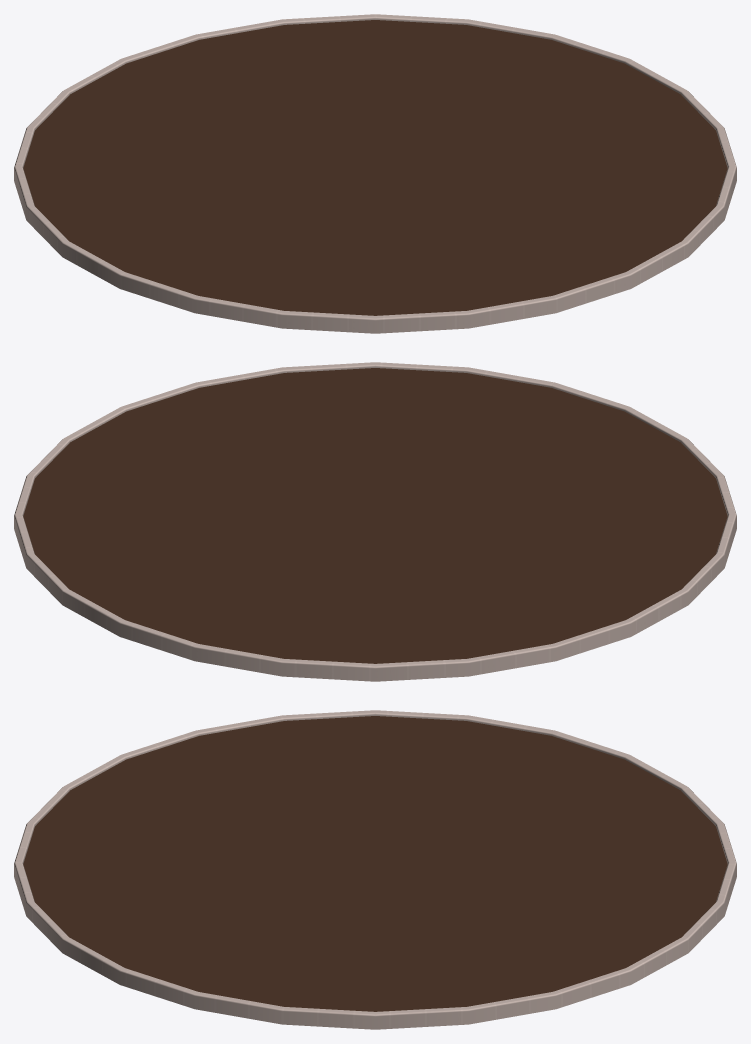
File: GardenBed_Round_16m.fbx
3 views of the same model, one above another, from view 1: azimuth 30°, elevation 25°; view 2: azimuth 150°, elevation 25°; view 3: azimuth 270°, elevation 25° (orthographic).
Visible parts, largest first — view 1: GardenBed_Round_16m; view 2: GardenBed_Round_16m; view 3: GardenBed_Round_16m.
Part boxes in pixels (x1,y1,x2,y2): GardenBed_Round_16m: (14, 14, 736, 333); GardenBed_Round_16m: (14, 362, 736, 681); GardenBed_Round_16m: (14, 710, 736, 1029).
Bounding box in the file's own units: 1600 × 37.7 × 1600.
